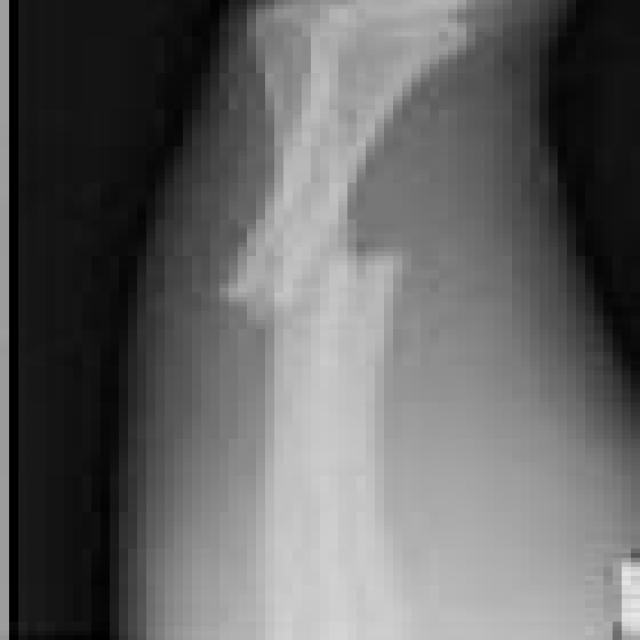Broken: (221, 11, 473, 319), (261, 251, 414, 636)
